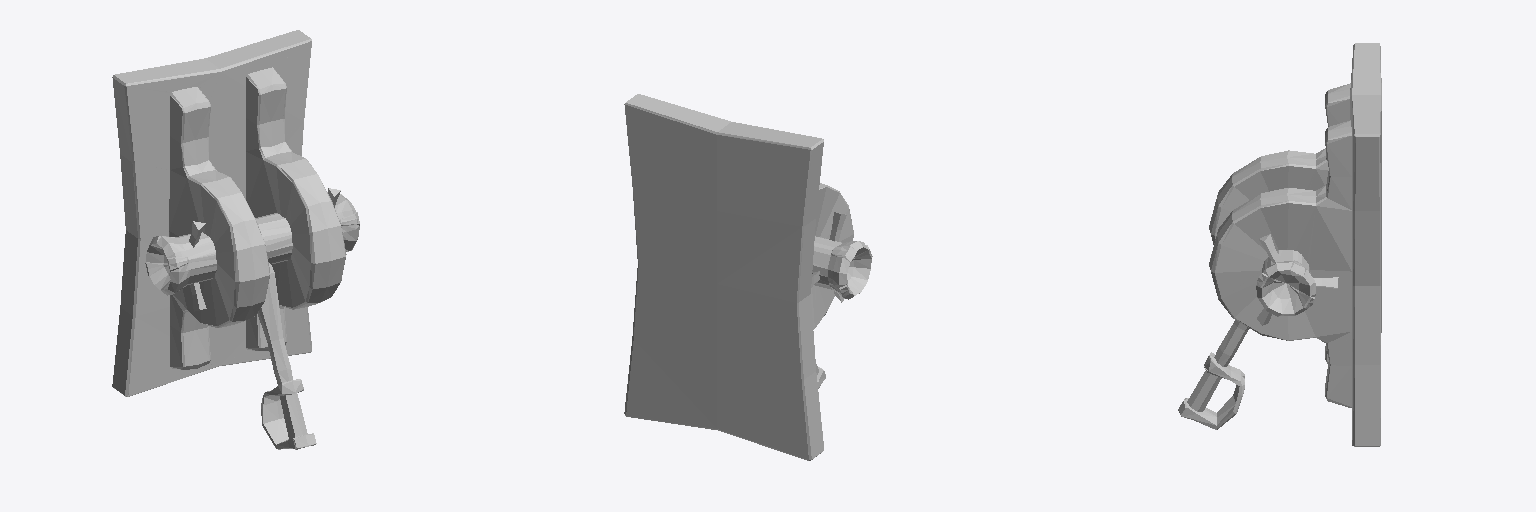
Rendered from Lever.obj.
3 renders of one model, left to right at view 1: azimuth 30°, elevation 25°; view 2: azimuth 150°, elevation 25°; view 3: azimuth 270°, elevation 25°, orthographic.
Visible parts, largest first — view 1: Object.1; view 2: Object.1; view 3: Object.1.
Boxes of the visible parts, <box> form: Object.1: <box>112,30,359,449</box>; Object.1: <box>624,94,872,460</box>; Object.1: <box>1178,43,1381,446</box>.
Bounding box in the file's own units: 0.5935 × 1 × 0.5529.